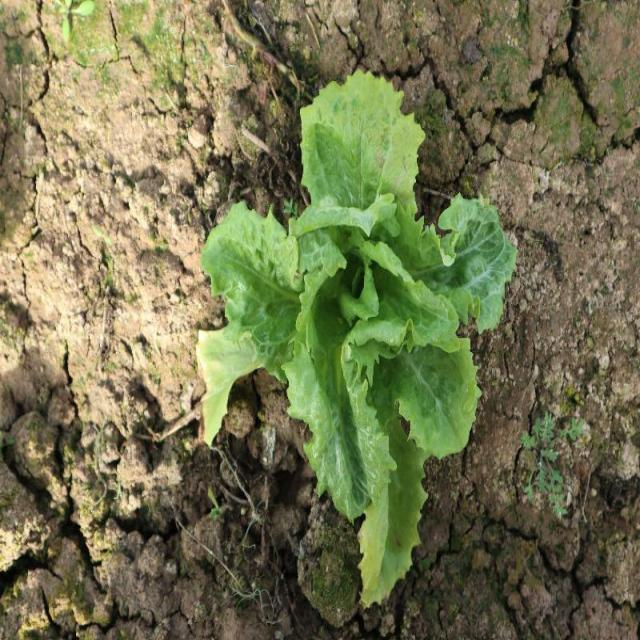crop: (195, 70, 520, 608)
